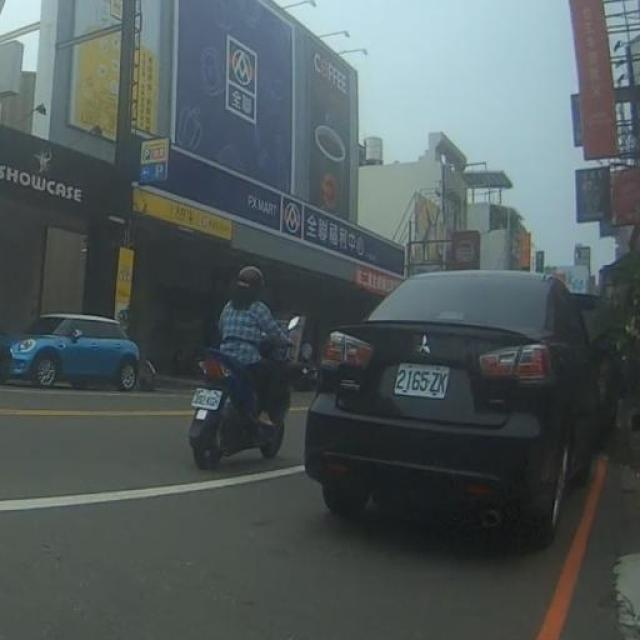Legalparking: (0, 312, 139, 391)
illegalparking: (305, 270, 600, 548)
